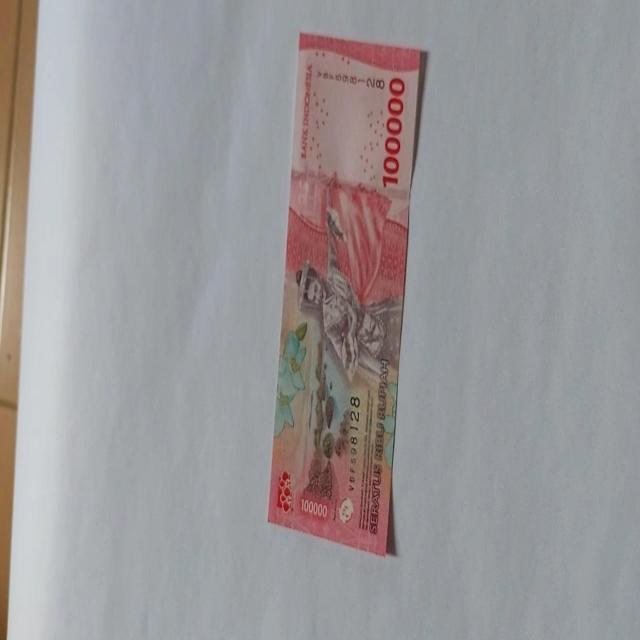Kertas: (266, 31, 426, 556)
